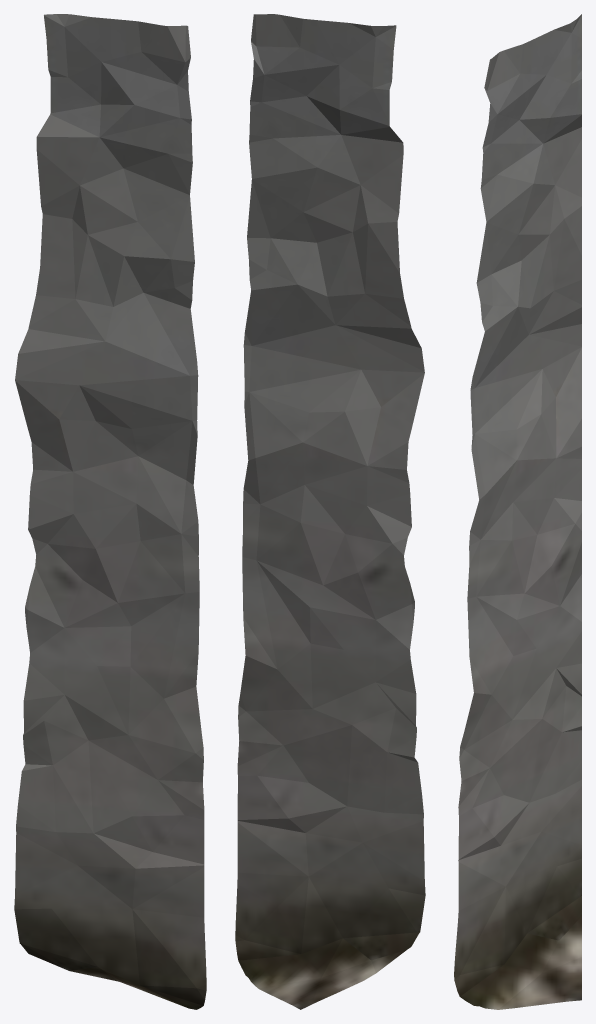
3 renders of one model, left to right at view 1: azimuth 30°, elevation 25°; view 2: azimuth 210°, elevation 25°; view 3: azimuth 270°, elevation 25°, orthographic. The views are drawn at different scales.
Bounding box in the file's own units: 0.1026 × 0.7625 × 0.093.
1 material, 1 textured.
